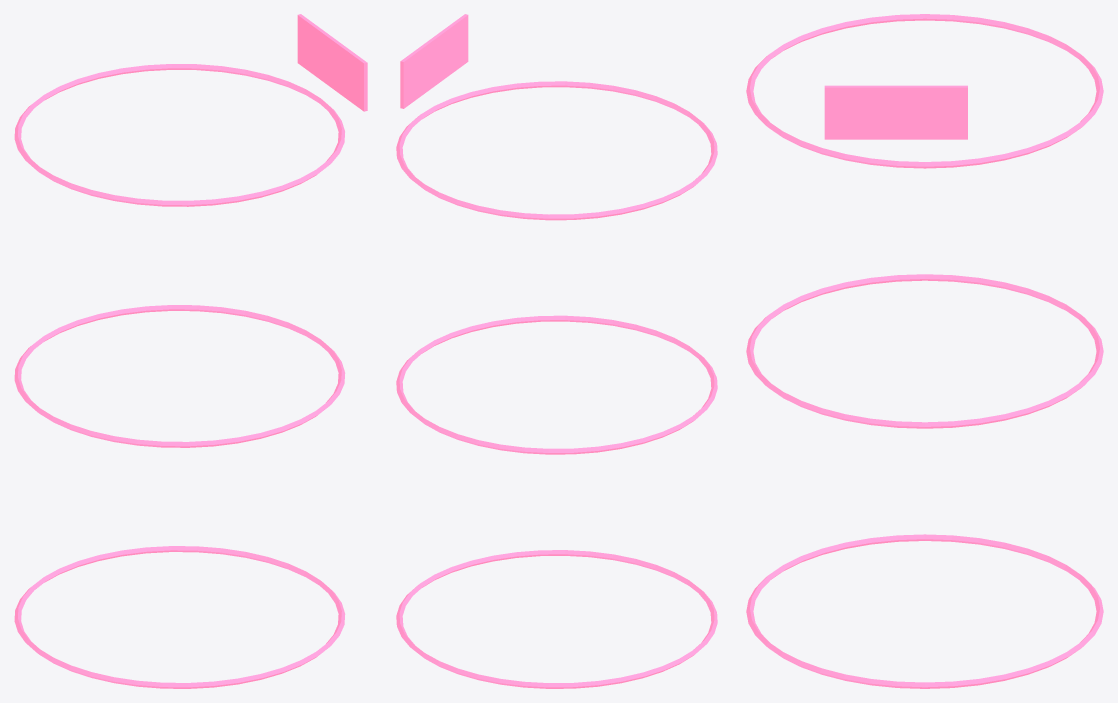
The model's file is Tower109Neon.fbx.
The picture shows the model from 3 angles, left to right: view 1: azimuth 30°, elevation 25°; view 2: azimuth 150°, elevation 25°; view 3: azimuth 270°, elevation 25°; orthographic projection. The views are drawn at different scales.
Visible parts, largest first — view 1: Tower109Ring20.001; view 2: Tower109Ring20.001; view 3: Tower109Ring20.001.
Boxes of the visible parts, left/top/right/bottom form: Tower109Ring20.001: left=14, top=14, right=367, bottom=688; Tower109Ring20.001: left=396, top=14, right=717, bottom=688; Tower109Ring20.001: left=746, top=14, right=1103, bottom=688.
Bounding box in the file's own units: 2490 × 4625 × 2490.
